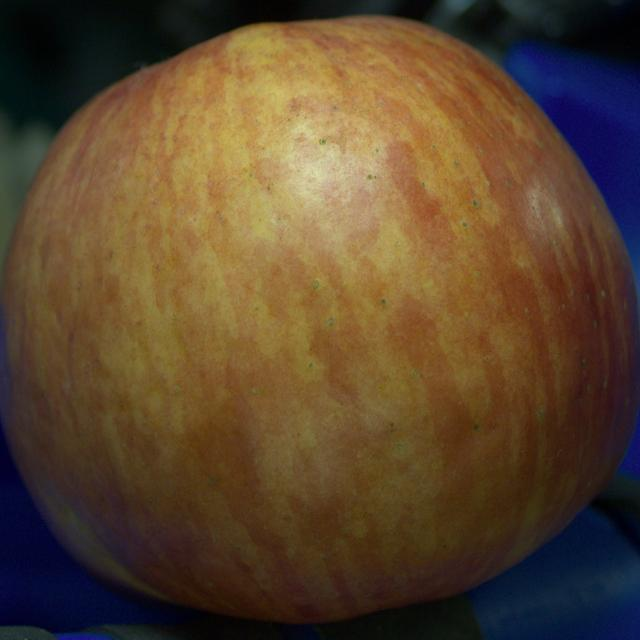apple: (0, 16, 639, 622)
